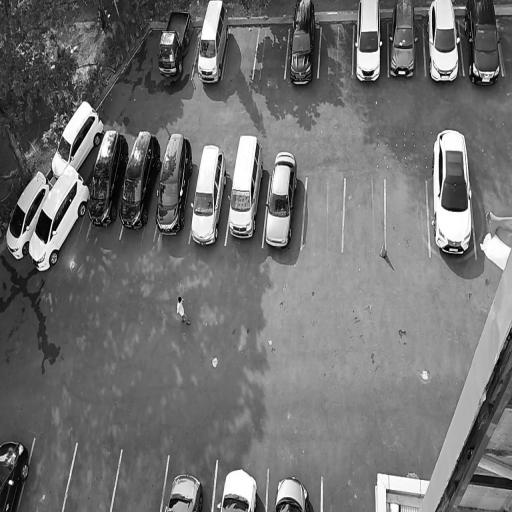Car: (25, 161, 91, 275), (427, 126, 476, 263), (117, 125, 166, 233), (84, 123, 133, 229), (3, 163, 54, 264), (151, 127, 197, 237), (49, 95, 106, 182), (187, 139, 230, 250), (225, 130, 266, 240), (262, 148, 301, 251), (463, 0, 503, 91), (424, 0, 461, 82), (196, 0, 231, 84), (157, 5, 194, 81), (355, 0, 383, 86), (0, 438, 32, 512), (388, 0, 417, 78), (162, 468, 206, 512), (217, 466, 259, 512), (271, 474, 311, 512)
Space Available: (18, 438, 76, 512), (64, 444, 121, 511), (113, 449, 168, 511), (386, 179, 430, 256), (303, 177, 344, 252), (343, 179, 384, 251), (470, 183, 509, 258), (252, 29, 289, 81), (222, 28, 259, 79), (319, 25, 353, 78), (323, 478, 366, 512)
